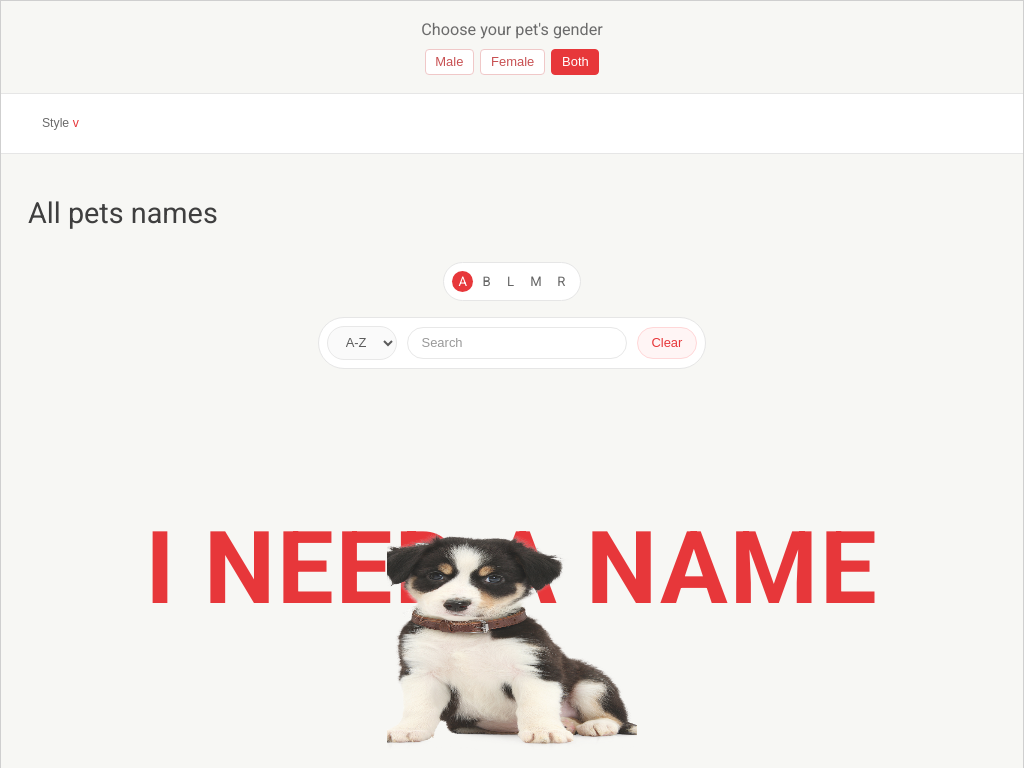
Test: App › filters names by search and resets with clear
Expected: the heading "I NEED A NAME" is shown, [145,524,879,615]
Type "mi" into the search field with placeholder "Search". click: (517, 343)
box: [407,327,627,359]
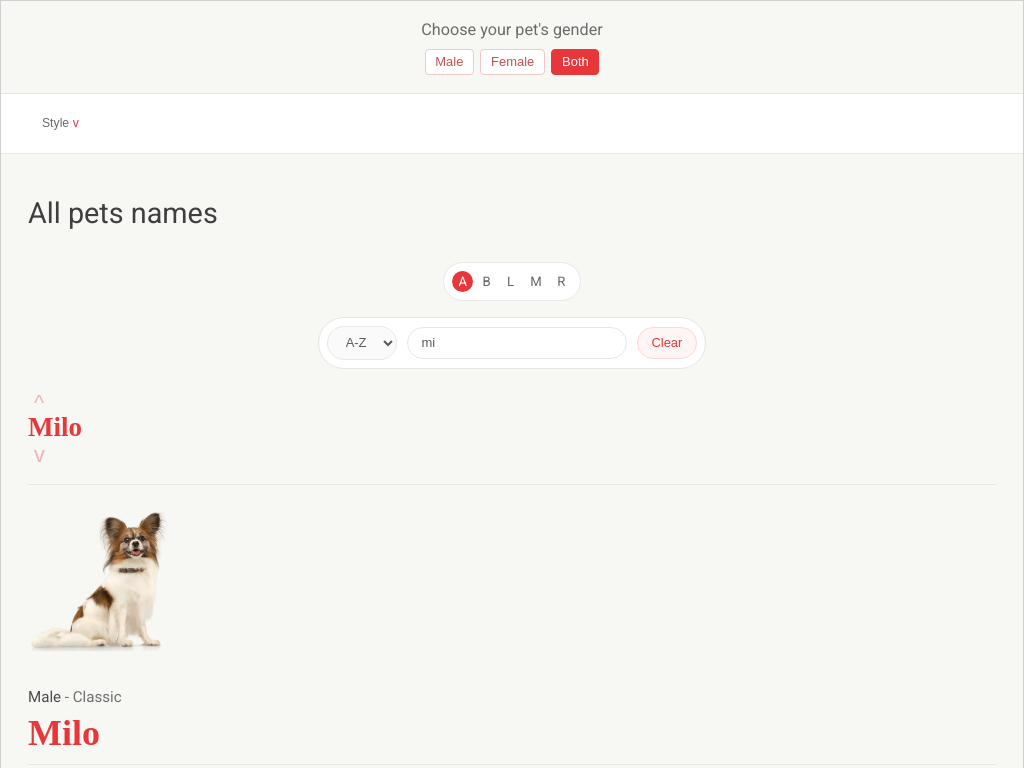
Result: the heading "Milo" is shown at [28,713,100,753]
Click the button "Clear". click: (667, 343)
box: [637,327,697,359]
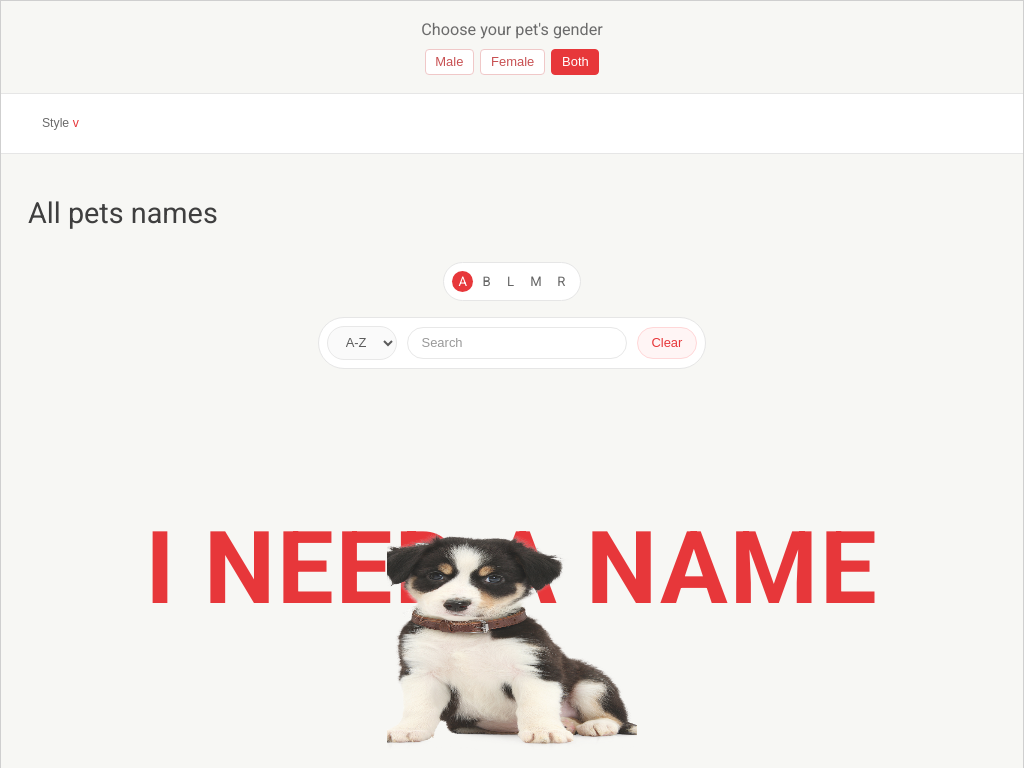
Result: the heading "I NEED A NAME" is shown at [145,524,879,615]
